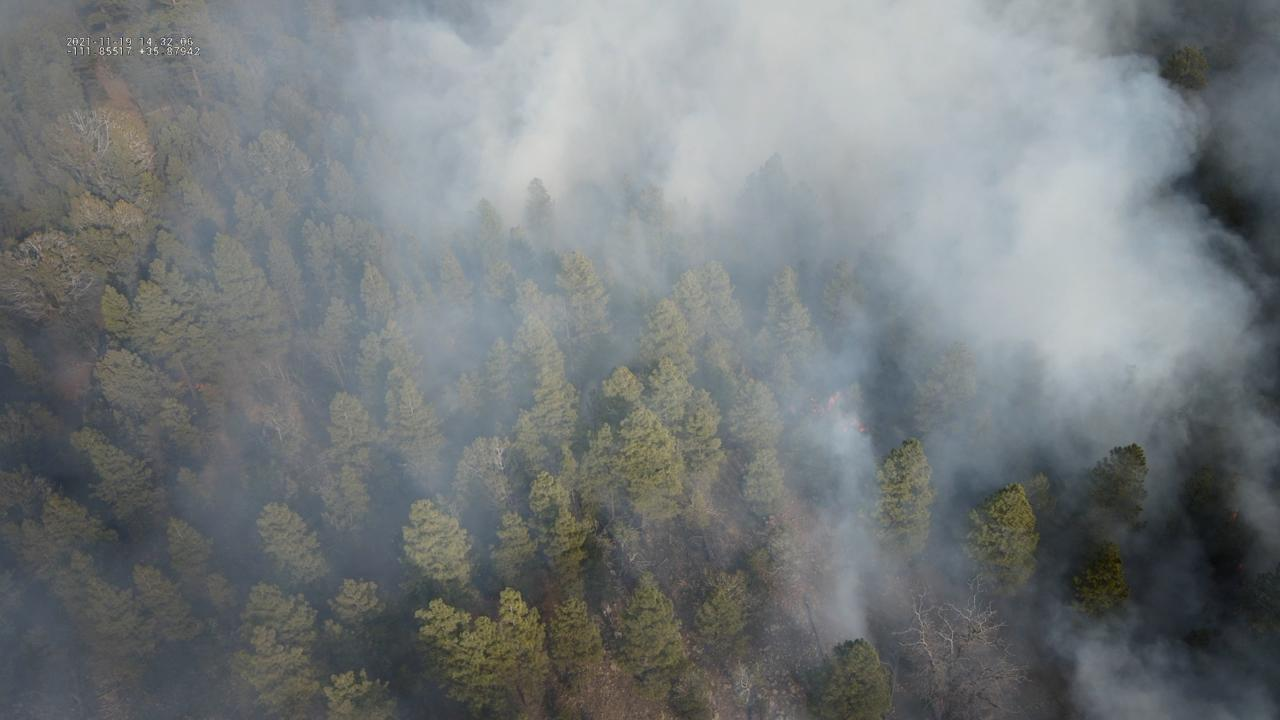fire: (827, 391, 841, 410), (858, 427, 865, 434)
smoke: (0, 0, 1280, 720)
